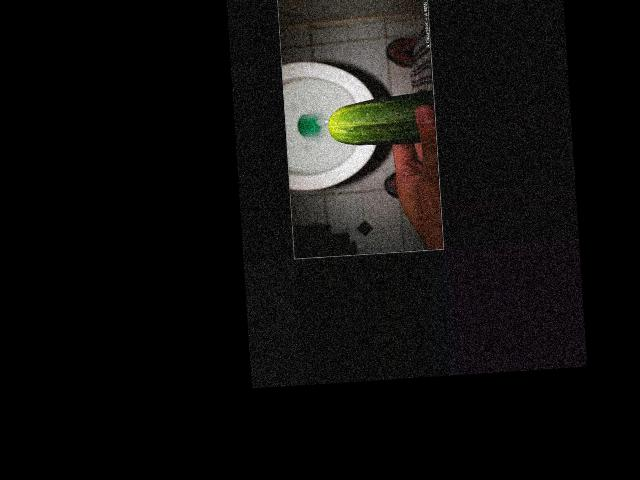cucumber: (326, 90, 438, 148)
